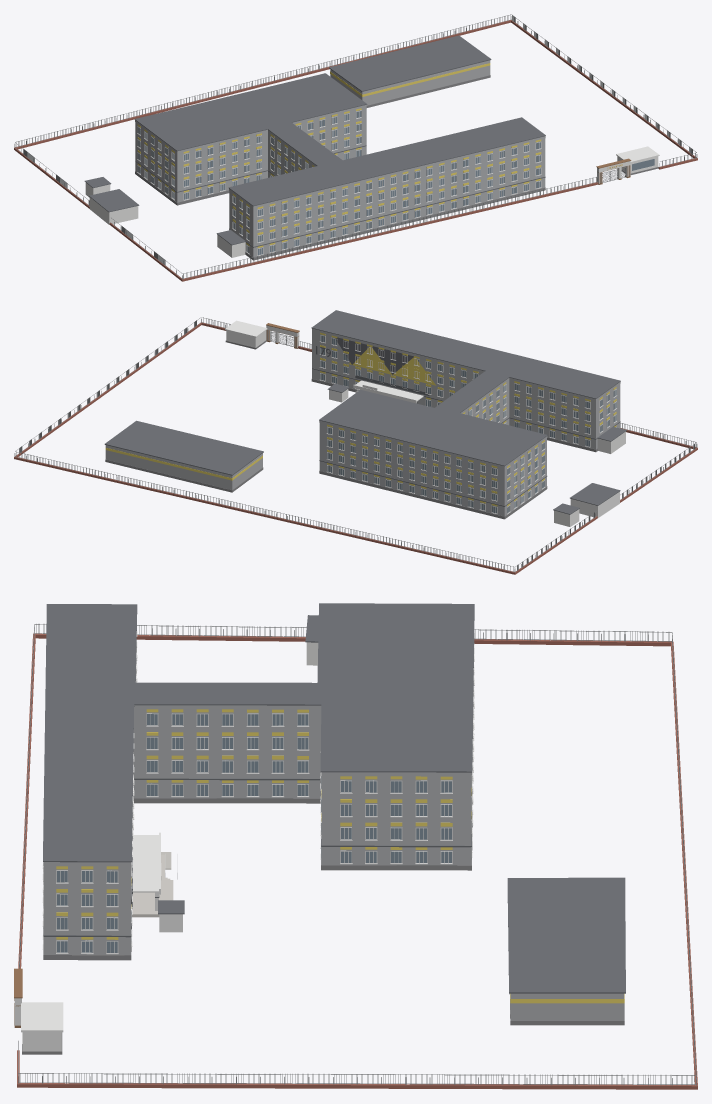
The picture shows the model from 3 angles, top to bottom: view 1: azimuth 30°, elevation 25°; view 2: azimuth 150°, elevation 25°; view 3: azimuth 270°, elevation 25°; orthographic projection. The views are drawn at different scales.
Parts seen in each view (by area): view 1: Maktab_devor, Maktab_parapet_qopqoq, Maktab_romlar, Maktab_oynalar, Panjara, Bir_qavatli_tom, Panjara_poydevor, Maktab_sariq_panellar, Bir_qavatli_bino, Maktab_parapet, Maktab_tsokol, Maktab_lentalar (+3 smaller); view 2: Maktab_parapet_qopqoq, Maktab_devor, Maktab_romlar, Maktab_oynalar, Bir_qavatli_tom, Panjara, Panjara_poydevor, Maktab_sariq_panellar, Bir_qavatli_bino, Maktab_parapet, Maktab_tsokol, Grafika_sariq (+8 smaller); view 3: Maktab_parapet_qopqoq, Maktab_devor, Bir_qavatli_tom, Panjara_poydevor, Maktab_oynalar, Panjara, Maktab_romlar, Maktab_sariq_panellar, Bir_qavatli_bino, Maktab_tsokol, Maktab_parapet, Soyabon (+4 smaller).
Part boxes in pixels (x1,y1,x2,y2): Maktab_devor: (135,107,545,257); Maktab_parapet_qopqoq: (134,73,545,206); Maktab_romlar: (137,110,541,255); Maktab_oynalar: (137,111,540,255); Panjara: (14,14,697,279); Bir_qavatli_tom: (329,35,491,91); Panjara_poydevor: (14,20,697,281); Maktab_sariq_panellar: (137,108,541,247); Bir_qavatli_bino: (330,60,490,105); Maktab_parapet: (135,105,545,208); Maktab_tsokol: (135,171,545,260); Maktab_lentalar: (135,145,545,247); Maktab_parapet_qopqoq: (311,310,620,466); Maktab_devor: (312,330,620,516); Maktab_romlar: (319,335,616,514); Maktab_oynalar: (320,335,616,513); Bir_qavatli_tom: (104,420,263,475); Panjara: (14,317,697,572); Panjara_poydevor: (14,322,697,574); Maktab_sariq_panellar: (320,332,616,506); Bir_qavatli_bino: (105,445,262,489); Maktab_parapet: (312,328,620,468); Maktab_tsokol: (311,379,597,519); Grafika_sariq: (349,346,436,385); Maktab_parapet_qopqoq: (43,603,474,862); Maktab_devor: (43,709,471,955); Bir_qavatli_tom: (507,877,625,993); Panjara_poydevor: (17,633,697,1089); Maktab_oynalar: (57,713,452,952); Panjara: (18,624,696,1085); Maktab_romlar: (42,631,474,954); Maktab_sariq_panellar: (56,709,471,939); Bir_qavatli_bino: (510,993,624,1020); Maktab_tsokol: (43,730,473,960); Maktab_parapet: (43,705,471,866); Soyabon: (133,835,160,892).
Size of the model in its own units: 136 by 14.22 by 87.18.
